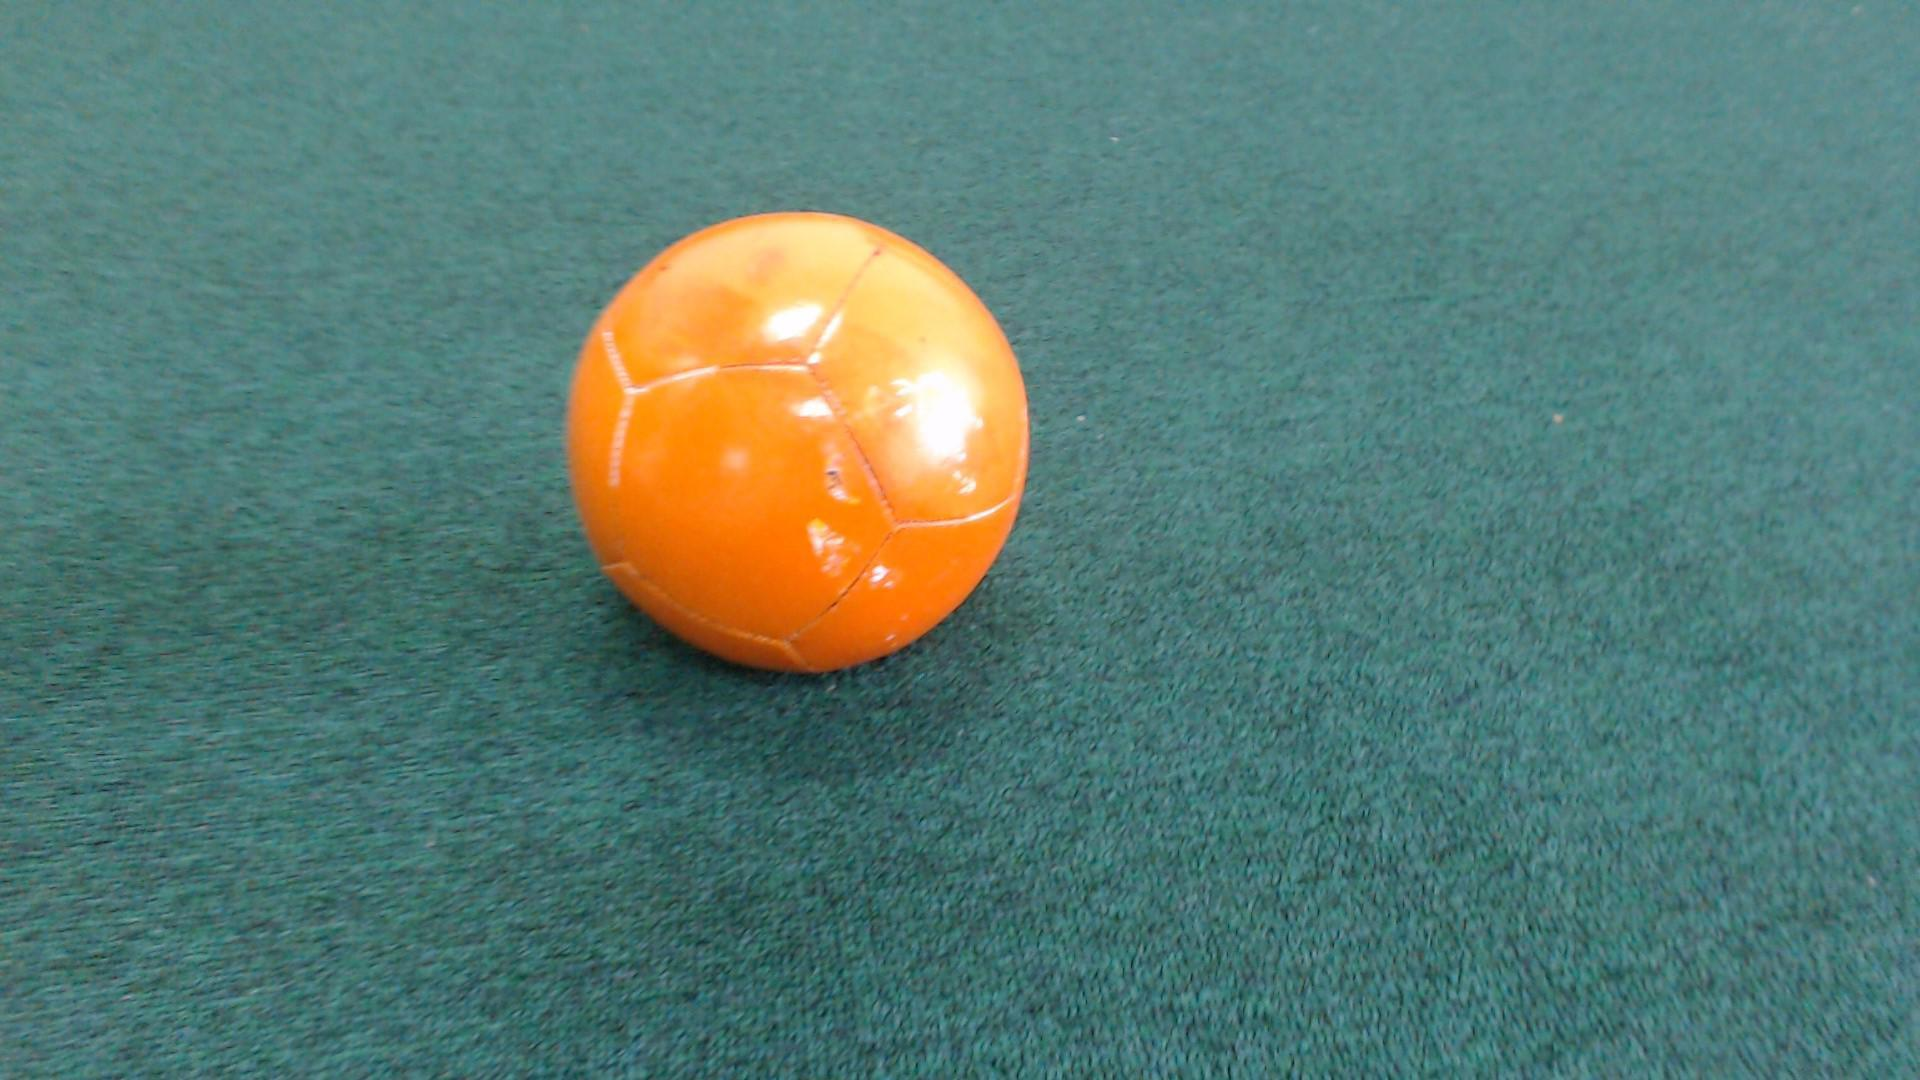bola: (534, 190, 1054, 699)
